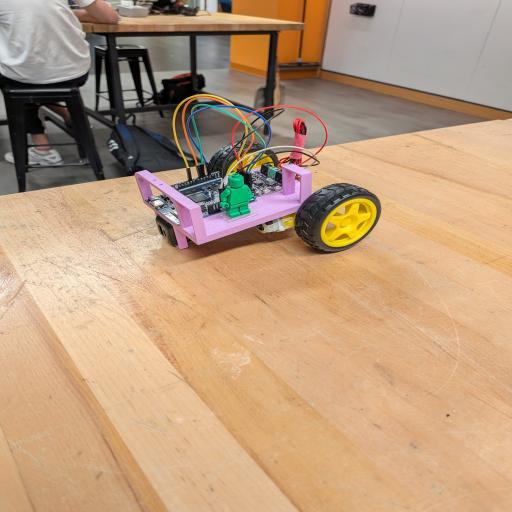Minifig: (220, 173, 254, 218)
